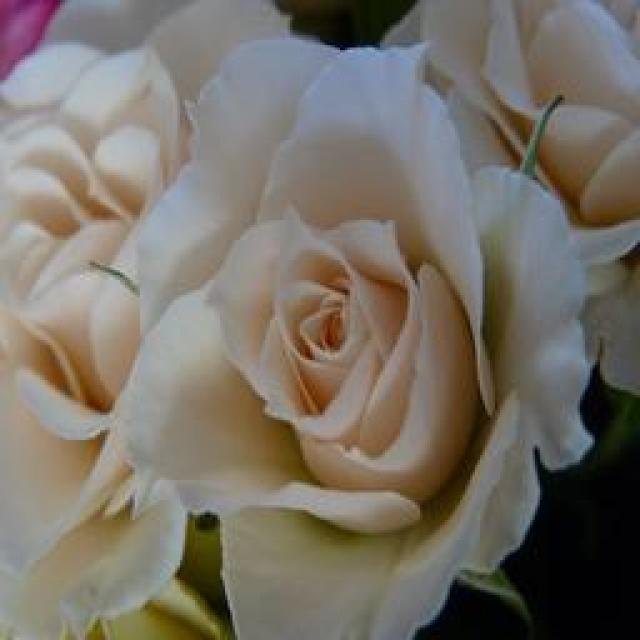rose: (87, 44, 599, 638)
